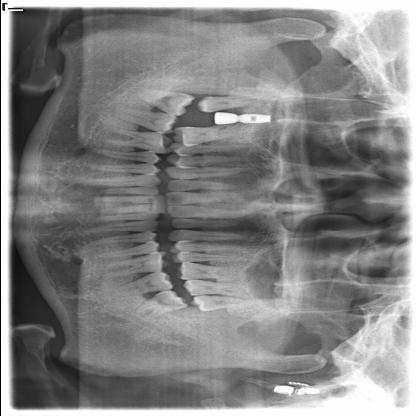Bicon: (232, 111, 274, 124)
